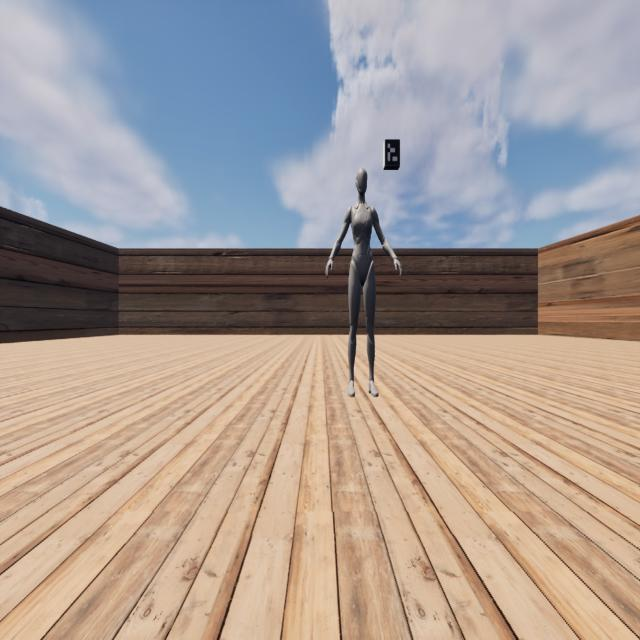aruco: (385, 140, 400, 166)
hip: (350, 260, 374, 270)
